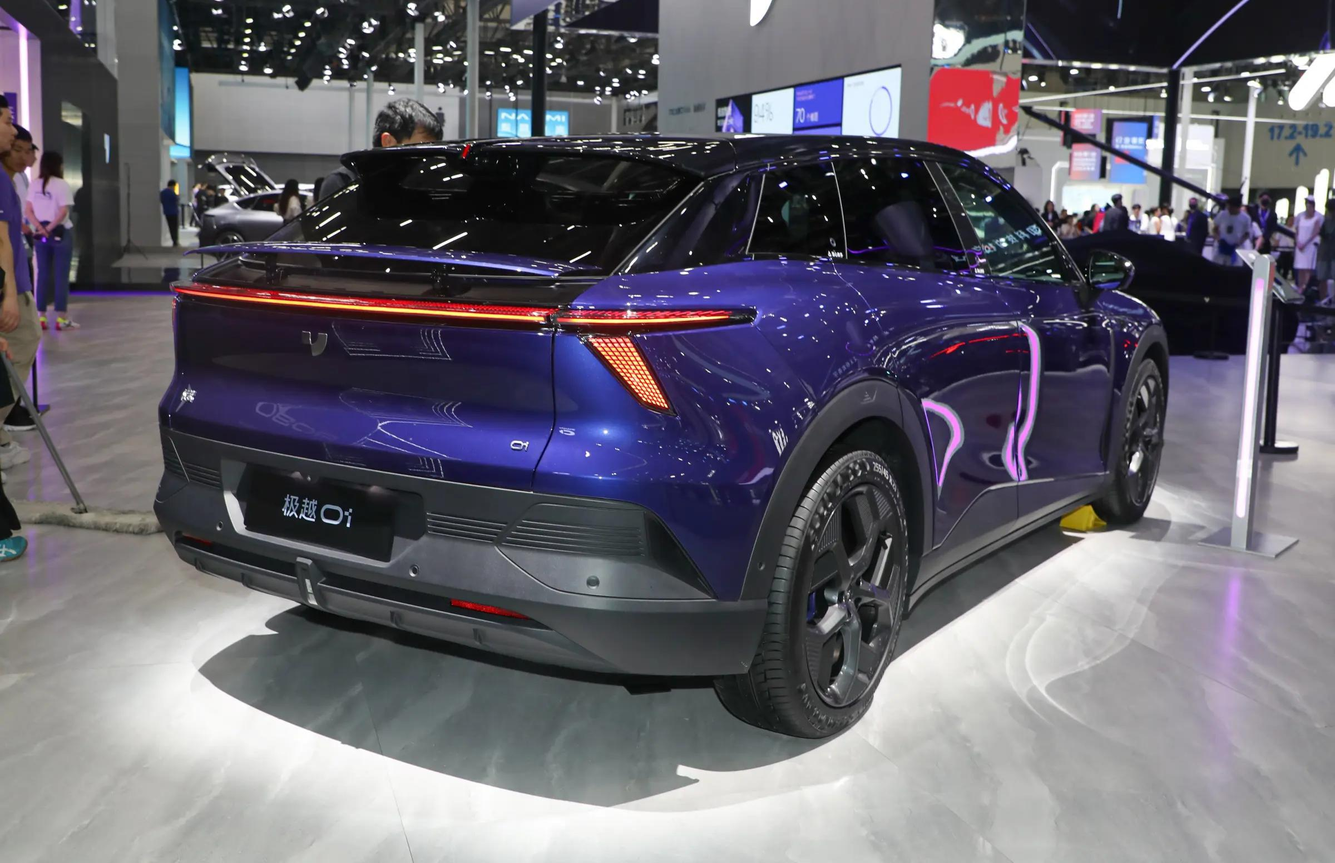JIYUE: (300, 330, 328, 358)
